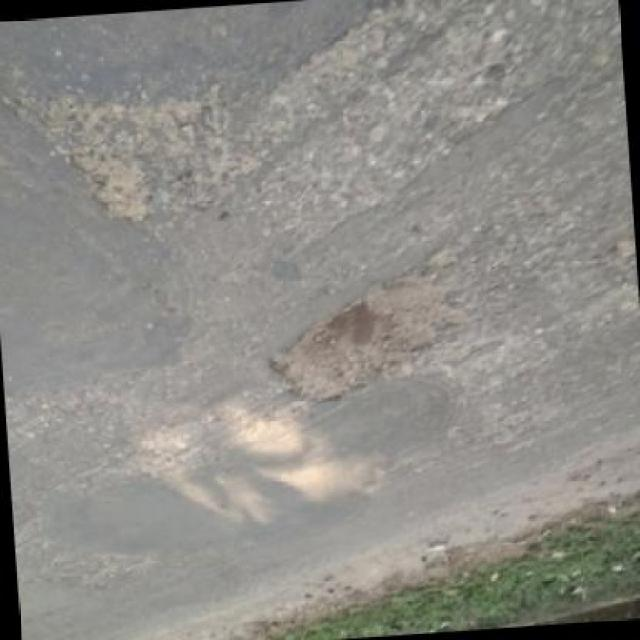pothole1: (258, 266, 476, 408), (65, 143, 153, 234)
